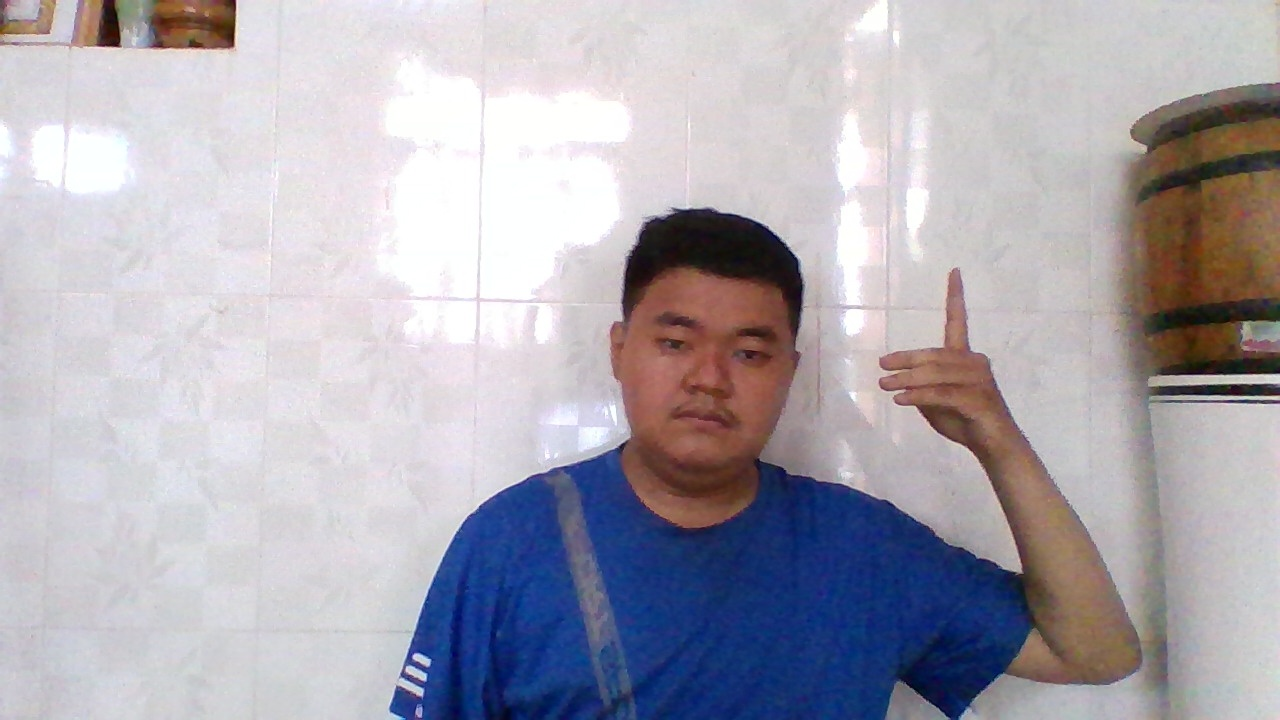D: (864, 258, 1015, 469)
